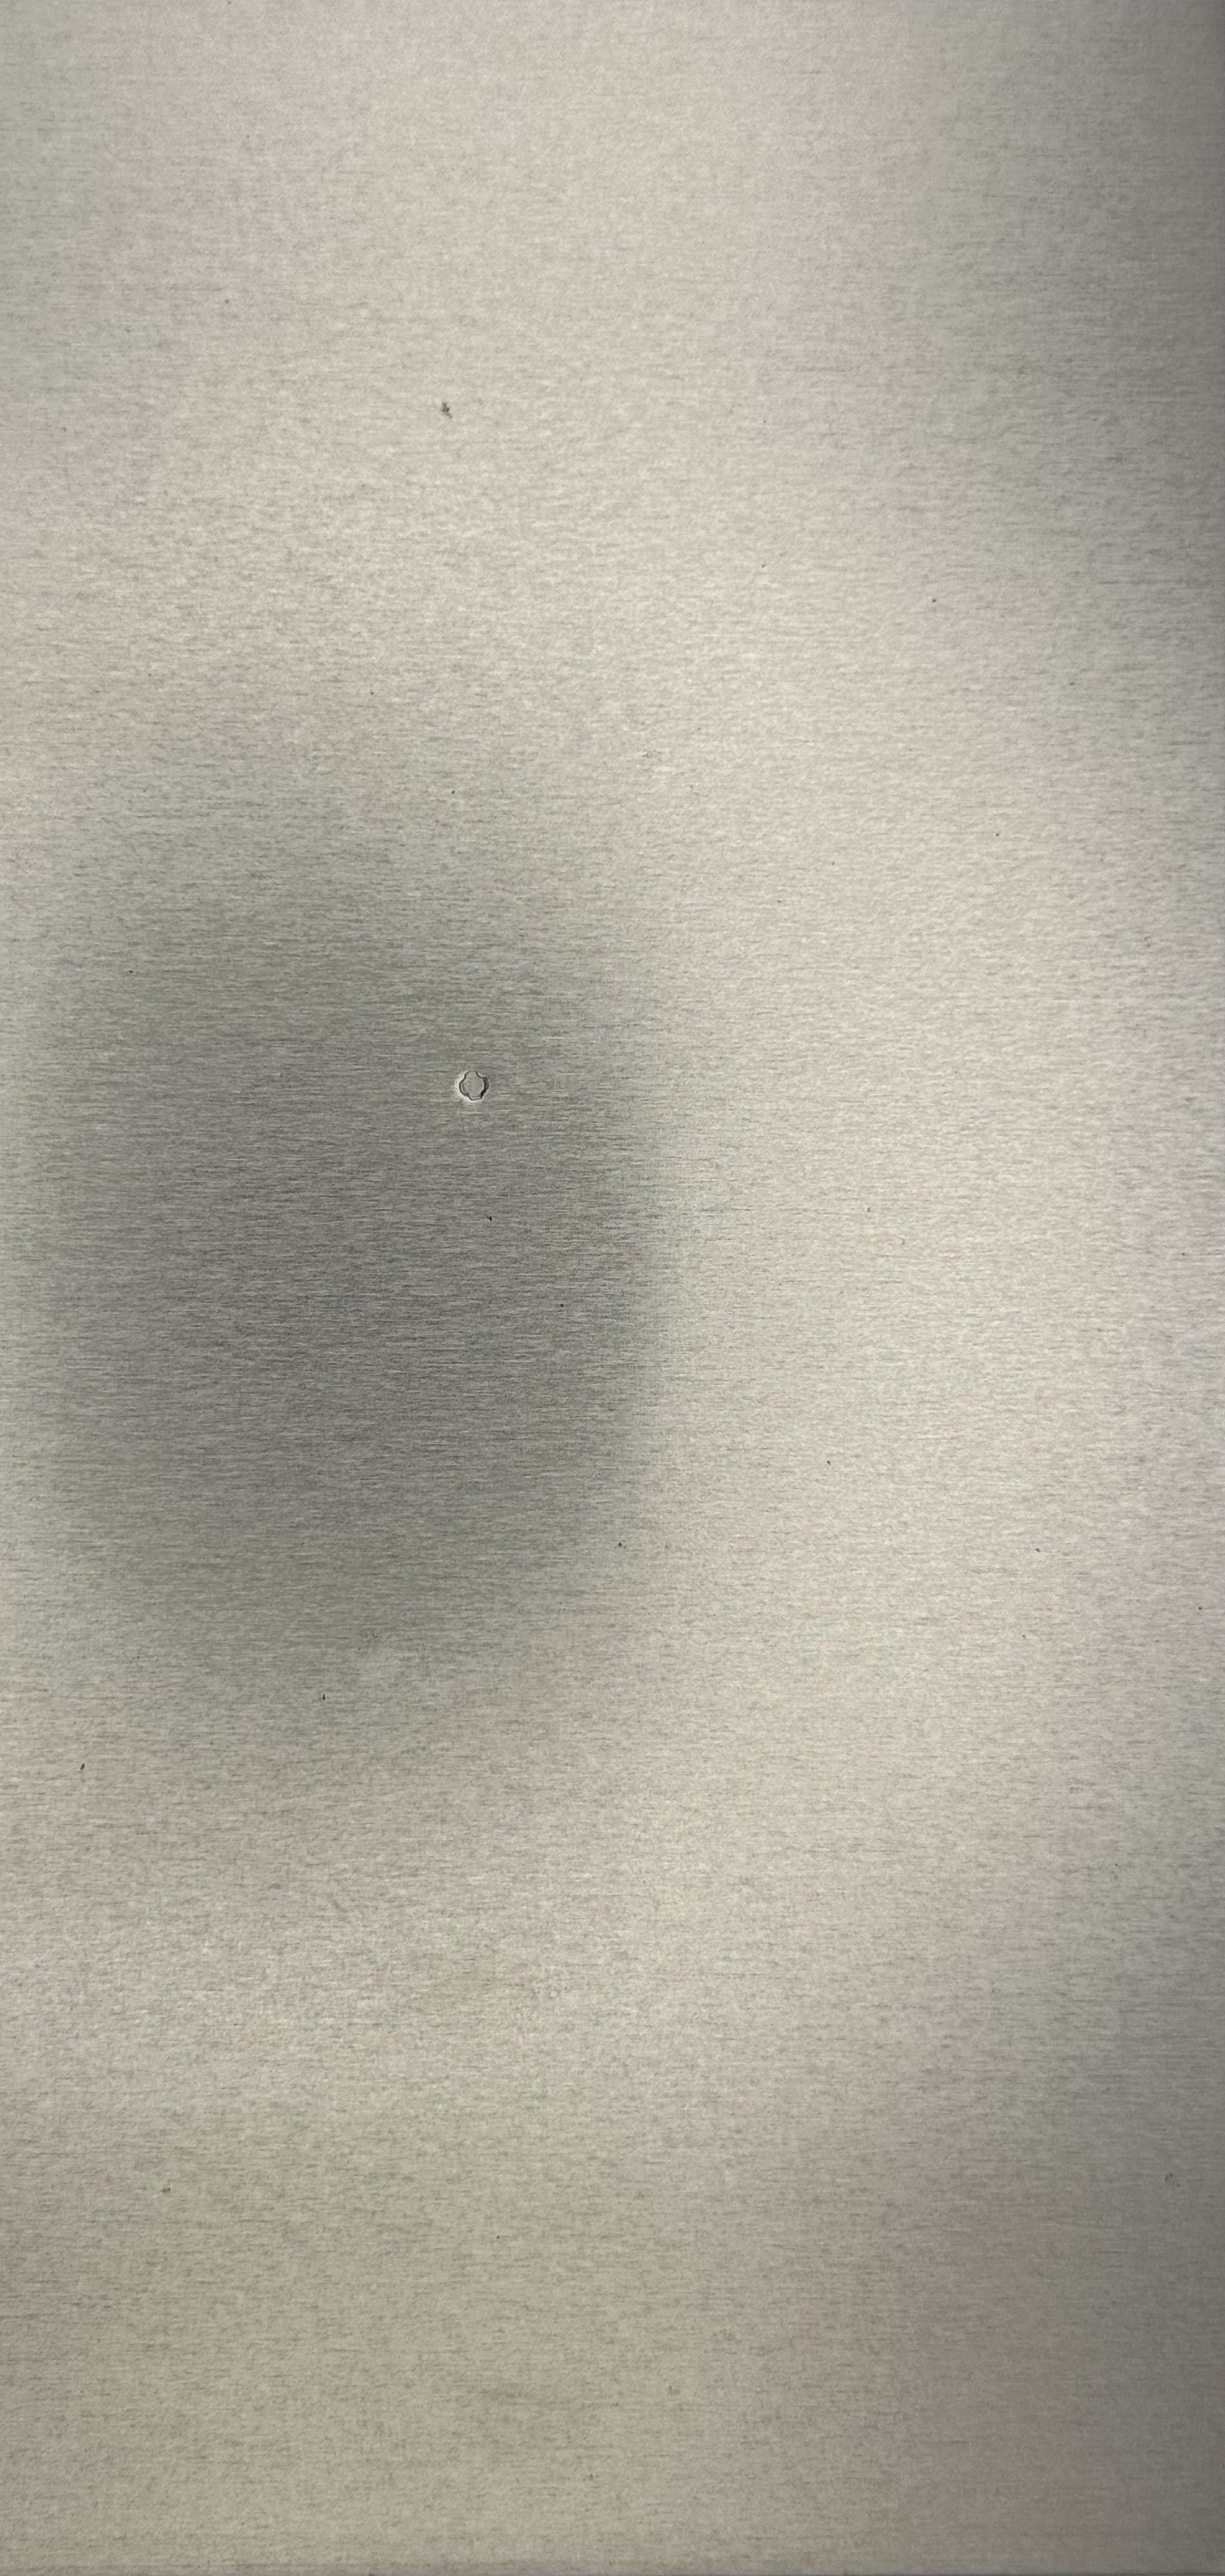Delle: (305, 1603, 445, 1710), (434, 1056, 527, 1125)
